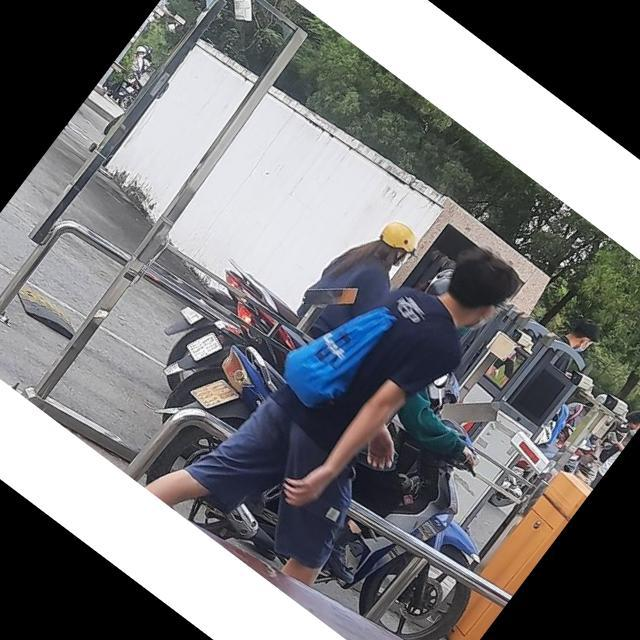WITH_HELMET: (372, 212, 426, 264)
